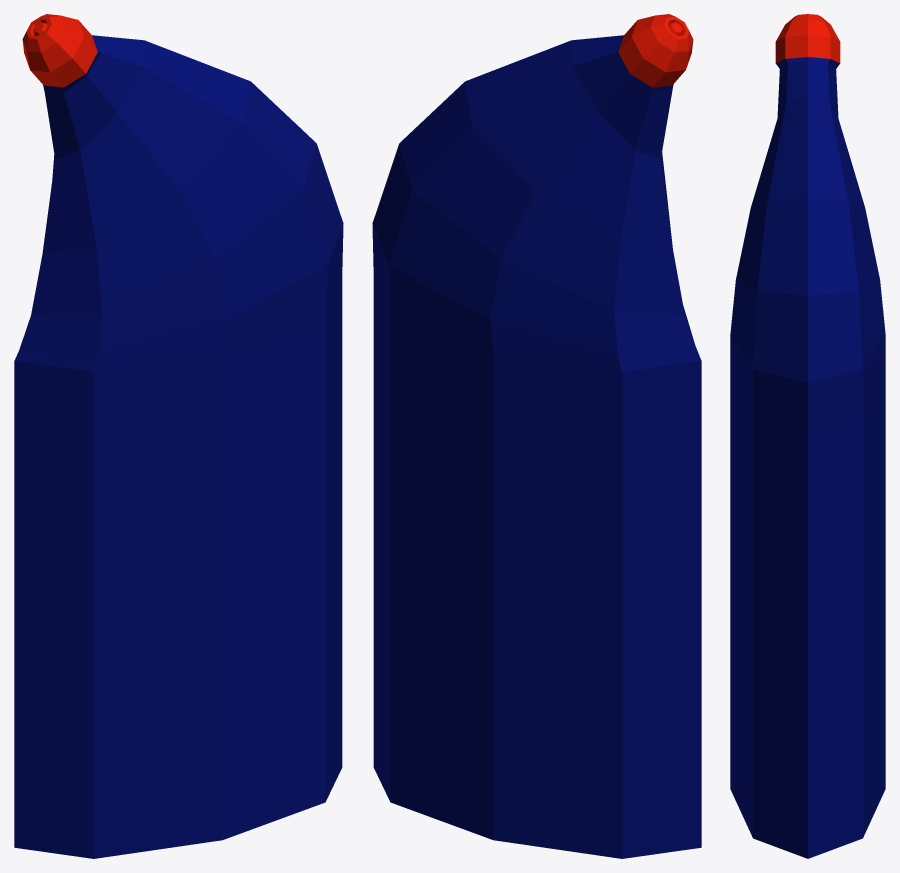
File: Limpiavidrios.fbx
3 views of the same model, side by side, from view 1: azimuth 30°, elevation 25°; view 2: azimuth 150°, elevation 25°; view 3: azimuth 270°, elevation 25° (orthographic). The views are drawn at different scales.
Parts seen in each view (by area): view 1: Cylinder.087; view 2: Cylinder.087; view 3: Cylinder.087.
Part boxes in pixels (<box>): Cylinder.087: <box>14,14,343,858</box>; Cylinder.087: <box>372,14,701,858</box>; Cylinder.087: <box>730,14,885,858</box>.
Size of the model in its own units: 16.15 by 38.55 by 7.54.
